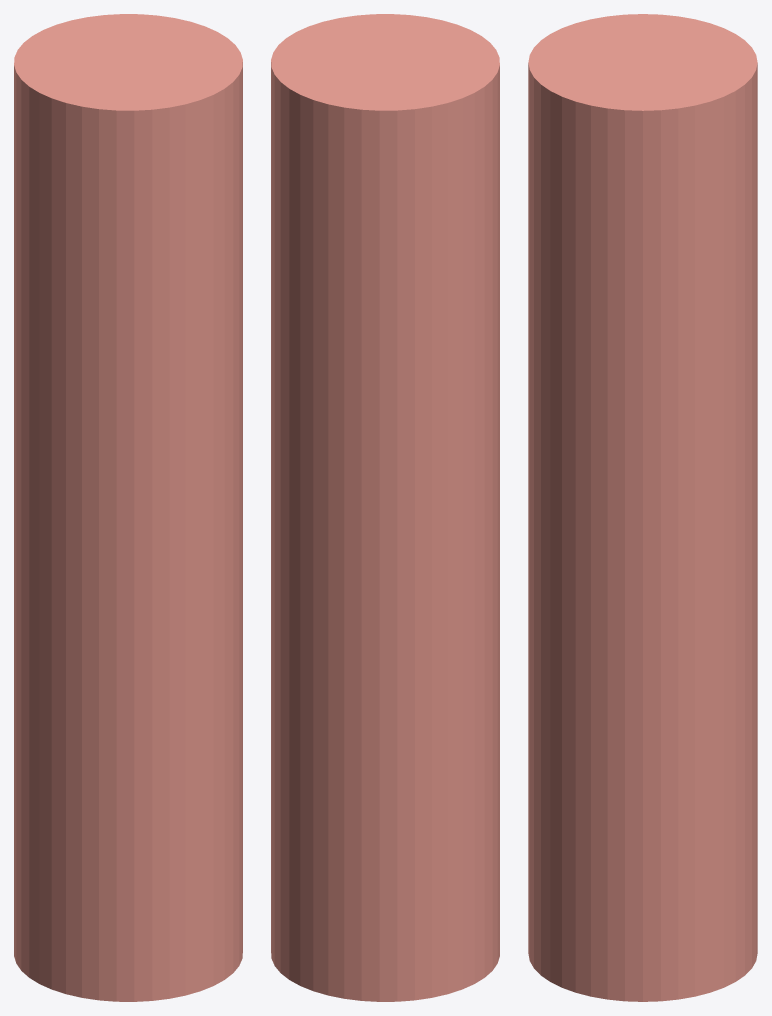
File: gen_battery_05.glb
3 renders of one model, left to right at view 1: azimuth 30°, elevation 25°; view 2: azimuth 150°, elevation 25°; view 3: azimuth 270°, elevation 25°, orthographic.
Visible parts, largest first — view 1: z-up-to-y-up; view 2: z-up-to-y-up; view 3: z-up-to-y-up.
Part boxes in pixels (bbox=[...]): z-up-to-y-up: bbox=[14, 14, 242, 1001]; z-up-to-y-up: bbox=[271, 14, 499, 1001]; z-up-to-y-up: bbox=[528, 14, 757, 1001].
Bounding box in the file's own units: 0.0139 × 0.0595 × 0.0139.
